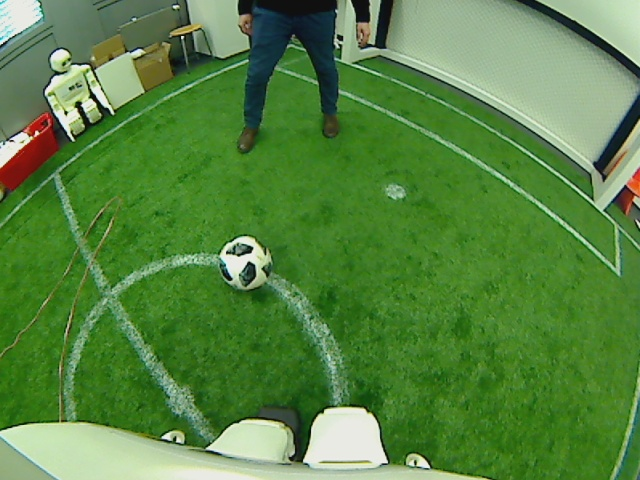ball: (215, 233, 272, 292)
